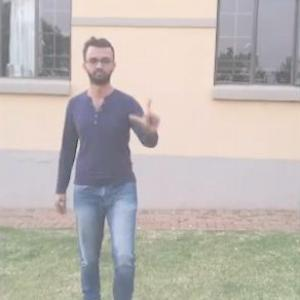land_hand: (130, 89, 167, 138)
